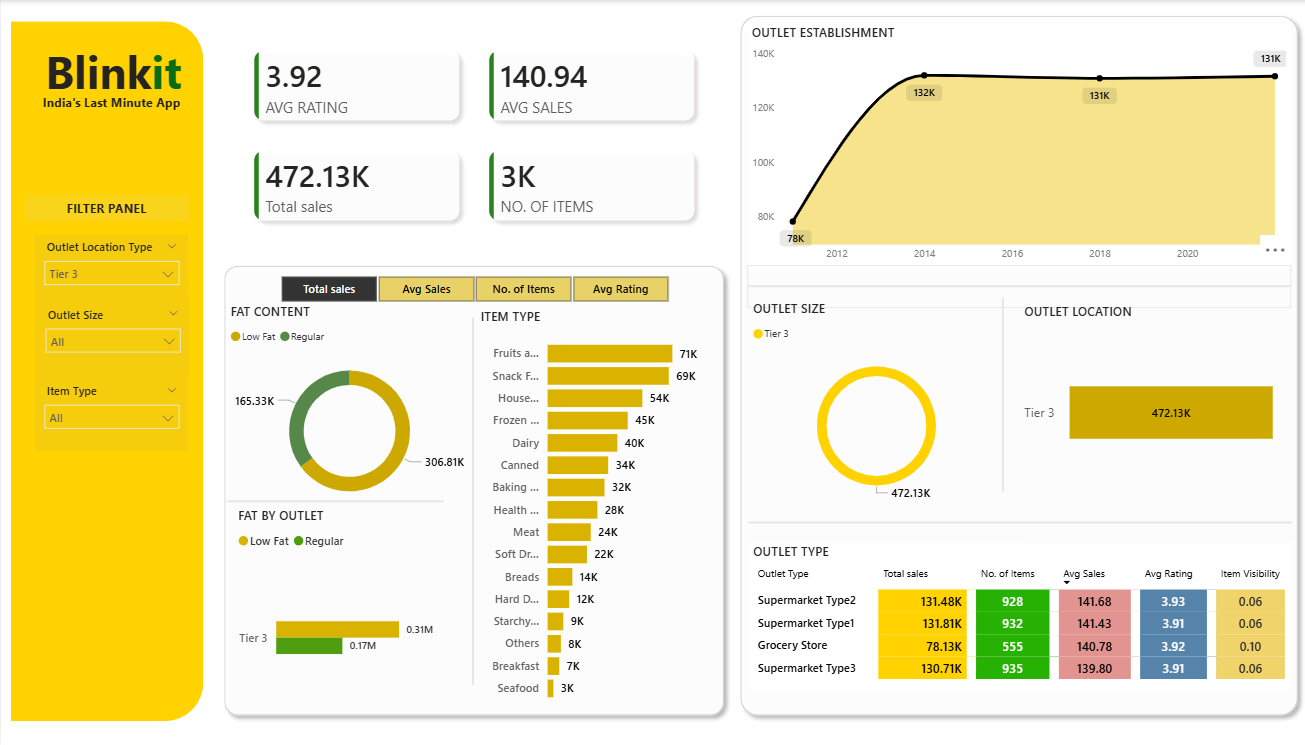

This screenshot's page, from the dashboard's own definition file:
{"tool":"powerbi","page":{"name":"Page 1","canvas":[1400,800],"ordinal":0},"visuals":[{"type":"shape","box":[10.7,22.8,206.4,750.7],"z":0},{"type":"textbox","box":[16.5,39,205.6,87.1],"z":1000},{"type":"textbox","box":[25.5,95.2,186.3,30.8],"z":2000},{"type":"shape","box":[230.6,276.1,553.6,500],"z":3000},{"type":"donutChart","title":"FAT CONTENT","fields":{"Y":["BlinkIT Grocery Data.Total sales"],"Category":["BlinkIT Grocery Data.Item Fat Content"]},"box":[241.3,324.4,265.4,230.6],"z":4000},{"type":"slicer","fields":{"Values":["Metrices.Metrices"]},"box":[274.8,289.5,465.1,40.2],"z":5000},{"type":"clusteredBarChart","title":"FAT BY OUTLET","fields":{"Y":["BlinkIT Grocery Data.Total sales"],"Category":["BlinkIT Grocery Data.Outlet Location Type"],"Series":["BlinkIT Grocery Data.Item Fat Content"]},"box":[249.3,542.9,219.8,230.6],"z":6000},{"type":"shape","box":[242.6,514.7,231.9,45.6],"z":7000},{"type":"shape","box":[390.1,340.5,231.9,394.1],"z":8000},{"type":"barChart","title":"ITEM TYPE","fields":{"Y":["BlinkIT Grocery Data.Total sales"],"Category":["BlinkIT Grocery Data.Item Type"]},"box":[509.4,329.8,254.7,433],"z":9000},{"type":"shape","box":[784.2,8,615.3,768.1],"z":10000},{"type":"lineChart","title":"OUTLET ESTABLISHMENT","fields":{"Category":["BlinkIT Grocery Data.Outlet Establishment Year"],"Y":["BlinkIT Grocery Data.Total sales"]},"box":[800.3,25.5,583.1,264.1],"z":11000},{"type":"shape","box":[800.3,284.2,583.1,45.6],"z":12000},{"type":"donutChart","title":"OUTLET SIZE","fields":{"Y":["BlinkIT Grocery Data.Total sales"],"Category":["BlinkIT Grocery Data.Outlet Location Type"]},"box":[801.6,321.7,274.8,225.2],"z":13000},{"type":"shape","box":[958.5,319,231.9,207.8],"z":14000},{"type":"funnel","title":"OUTLET LOCATION","fields":{"Y":["Sum(BlinkIT Grocery Data.Sales)"],"Category":["BlinkIT Grocery Data.Outlet Location Type"]},"box":[1092.5,324.4,281.5,218.5],"z":15000},{"type":"shape","box":[801.6,537.5,583.1,45.6],"z":16000},{"type":"pivotTable","title":"OUTLET TYPE","fields":{"Rows":["BlinkIT Grocery Data.Outlet Type"],"Values":["BlinkIT Grocery Data.Total sales","BlinkIT Grocery Data.No. of Items","BlinkIT Grocery Data.Avg Sales","BlinkIT Grocery Data.Avg Rating","Avg(BlinkIT Grocery Data.Item Visibility)"]},"box":[801.6,581.8,583.1,158.2],"z":17000},{"type":"cardVisual","fields":{"Data":["BlinkIT Grocery Data.Avg Rating","BlinkIT Grocery Data.Avg Sales","BlinkIT Grocery Data.Total sales","BlinkIT Grocery Data.No. of Items"]},"box":[242.6,25.5,530.8,241.3],"z":18000},{"type":"slicer","fields":{"Values":["BlinkIT Grocery Data.Outlet Location Type"]},"box":[36.2,252,164.9,76.4],"z":19000},{"type":"slicer","fields":{"Values":["BlinkIT Grocery Data.Outlet Size"]},"box":[36.2,329.8,164.9,76.4],"z":20000},{"type":"slicer","fields":{"Values":["BlinkIT Grocery Data.Outlet Size"]},"box":[37.5,324.4,164.9,76.4],"z":21000},{"type":"slicer","fields":{"Values":["BlinkIT Grocery Data.Item Type"]},"box":[36.2,406.2,164.9,76.4],"z":22000},{"type":"textbox","box":[25.5,209.1,175.6,28.2],"z":23000}]}

Visuals, with their boxes in screenshot pixels (x1, y1, x2, y2), scaled from the page's 1400x800 canvas onto the 1305x745 screenshot:
shape: (x1=10, y1=21, x2=202, y2=720)
textbox: (x1=15, y1=36, x2=207, y2=117)
textbox: (x1=24, y1=89, x2=197, y2=117)
shape: (x1=215, y1=257, x2=731, y2=723)
"FAT CONTENT" donutChart: (x1=225, y1=302, x2=472, y2=517)
slicer - Metrices.Metrices: (x1=256, y1=270, x2=690, y2=307)
"FAT BY OUTLET" clusteredBarChart: (x1=232, y1=506, x2=437, y2=720)
shape: (x1=226, y1=479, x2=442, y2=522)
shape: (x1=364, y1=317, x2=580, y2=684)
"ITEM TYPE" barChart: (x1=475, y1=307, x2=712, y2=710)
shape: (x1=731, y1=7, x2=1304, y2=723)
"OUTLET ESTABLISHMENT" lineChart: (x1=746, y1=24, x2=1290, y2=270)
shape: (x1=746, y1=265, x2=1290, y2=307)
"OUTLET SIZE" donutChart: (x1=747, y1=300, x2=1003, y2=509)
shape: (x1=893, y1=297, x2=1110, y2=491)
"OUTLET LOCATION" funnel: (x1=1018, y1=302, x2=1281, y2=506)
shape: (x1=747, y1=501, x2=1291, y2=543)
"OUTLET TYPE" pivotTable: (x1=747, y1=542, x2=1291, y2=689)
cardVisual - BlinkIT Grocery Data.Avg Rating x BlinkIT Grocery Data.Avg Sales: (x1=226, y1=24, x2=721, y2=248)
slicer - BlinkIT Grocery Data.Outlet Location Type: (x1=34, y1=235, x2=187, y2=306)
slicer - BlinkIT Grocery Data.Outlet Size: (x1=34, y1=307, x2=187, y2=378)
slicer - BlinkIT Grocery Data.Outlet Size: (x1=35, y1=302, x2=189, y2=373)
slicer - BlinkIT Grocery Data.Item Type: (x1=34, y1=378, x2=187, y2=449)
textbox: (x1=24, y1=195, x2=187, y2=221)
